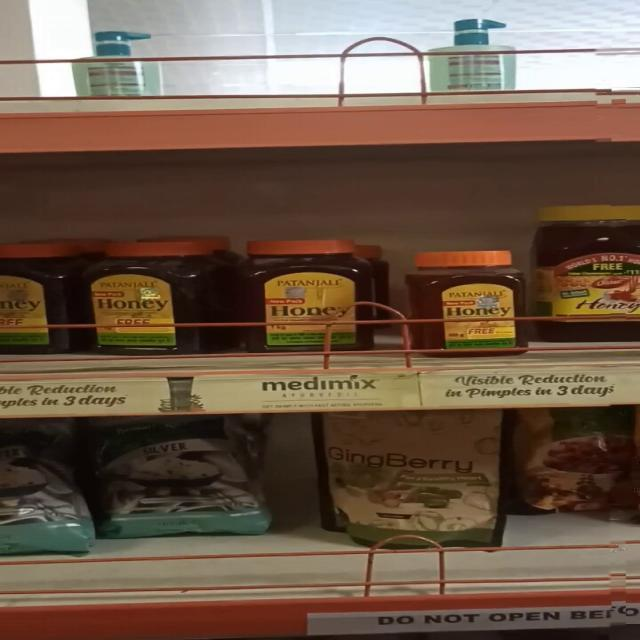Dabur Honey: (536, 208, 640, 338)
Patanjali Honey: (234, 242, 385, 356), (82, 243, 220, 362), (397, 250, 530, 357)
